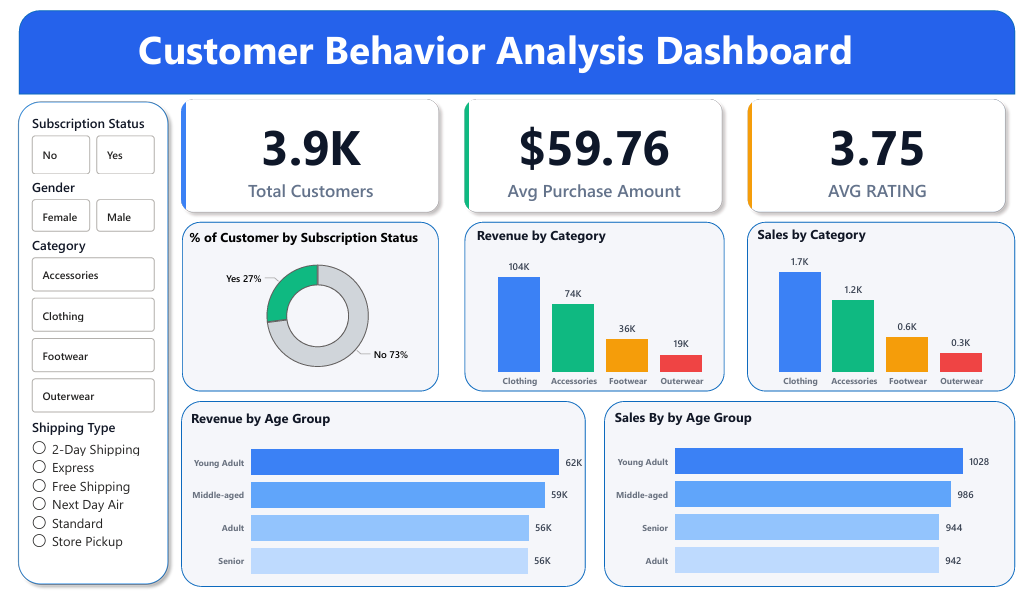

The dashboard page shown, as its layout file describes it:
{"tool":"powerbi","page":{"name":"Page 1","canvas":[1280,720],"ordinal":0},"visuals":[{"type":"cardVisual","fields":{"Data":["public customer.Number of Customers","public customer.Avg Purchase Amount","public customer.AVG RATING"]},"box":[200.3,81.3,1079.1,198.4],"z":0},{"type":"shape","box":[230,262,318,210],"z":500},{"type":"shape","box":[229.5,483.8,500.8,230.6],"z":1000},{"type":"shape","box":[753.4,483.8,508.4,230.6],"z":1000},{"type":"shape","box":[27.7,0,1234,103.9],"z":2000},{"type":"textbox","box":[171.3,9.4,910.9,85],"z":3000},{"type":"donutChart","title":"% of Customer by Subscription Status","fields":{"Category":["public customer.subscription_status"],"Y":["CountNonNull(public customer.customer_id)"]},"box":[234,270,328,196],"z":4000},{"type":"shape","box":[580,262,322,210],"z":5000},{"type":"shape","box":[930,262,332,210],"z":6000},{"type":"columnChart","title":"Revenue by Category","fields":{"Y":["public customer.Total Revenue"],"Category":["public customer.category"]},"box":[590,268,318,208],"z":7000},{"type":"shape","box":[18.3,103.9,204.1,616.1],"z":8000},{"type":"advancedSlicerVisual","fields":{"Values":["public customer.subscription_status"]},"box":[39.1,128.5,162.5,79.4],"z":9000},{"type":"advancedSlicerVisual","fields":{"Values":["public customer.gender"]},"box":[39.1,207.9,162.5,71.8],"z":10000},{"type":"advancedSlicerVisual","fields":{"Values":["public customer.category"]},"box":[39.1,279.7,162.5,224.9],"z":11000},{"type":"listSlicer","fields":{"Values":["public customer.shipping_type"]},"box":[39.1,504.6,204.1,215.4],"z":12000},{"type":"columnChart","title":"Sales by Category","fields":{"Category":["public customer.category"],"Y":["CountNonNull(public customer.customer_id)"]},"box":[938,266,316,210],"z":13000},{"type":"barChart","fields":{"Y":["public customer.Total Revenue"],"Category":["public customer.age_group"]},"box":[236,494,496,226],"z":14000},{"type":"barChart","fields":{"Y":["CountNonNull(public customer.customer_id)"],"Category":["public customer.age_group"]},"box":[760.9,493.2,476.2,226.8],"z":15000}]}

Visuals, with their boxes in screenshot pixels (x1, y1, x2, y2):
cardVisual - public customer.Number of Customers x public customer.Avg Purchase Amount: 163, 73, 1024, 231
shape: 186, 217, 440, 385
shape: 186, 394, 586, 578
shape: 604, 394, 1010, 578
shape: 25, 8, 1010, 91
textbox: 139, 16, 867, 83
"% of Customer by Subscription Status" donutChart: 189, 224, 451, 380
shape: 466, 217, 723, 385
shape: 745, 217, 1010, 385
"Revenue by Category" columnChart: 474, 222, 727, 388
shape: 17, 91, 180, 583
advancedSlicerVisual - public customer.subscription_status: 34, 111, 164, 174
advancedSlicerVisual - public customer.gender: 34, 174, 164, 231
advancedSlicerVisual - public customer.category: 34, 231, 164, 411
listSlicer - public customer.shipping_type: 34, 411, 197, 583
"Sales by Category" columnChart: 751, 220, 1004, 388
barChart - public customer.Total Revenue x public customer.age_group: 191, 402, 587, 583
barChart - CountNonNull(public customer.customer_id) x public customer.age_group: 610, 402, 990, 583
